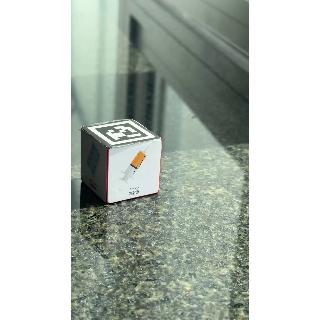Syringe: (109, 145, 165, 200)
